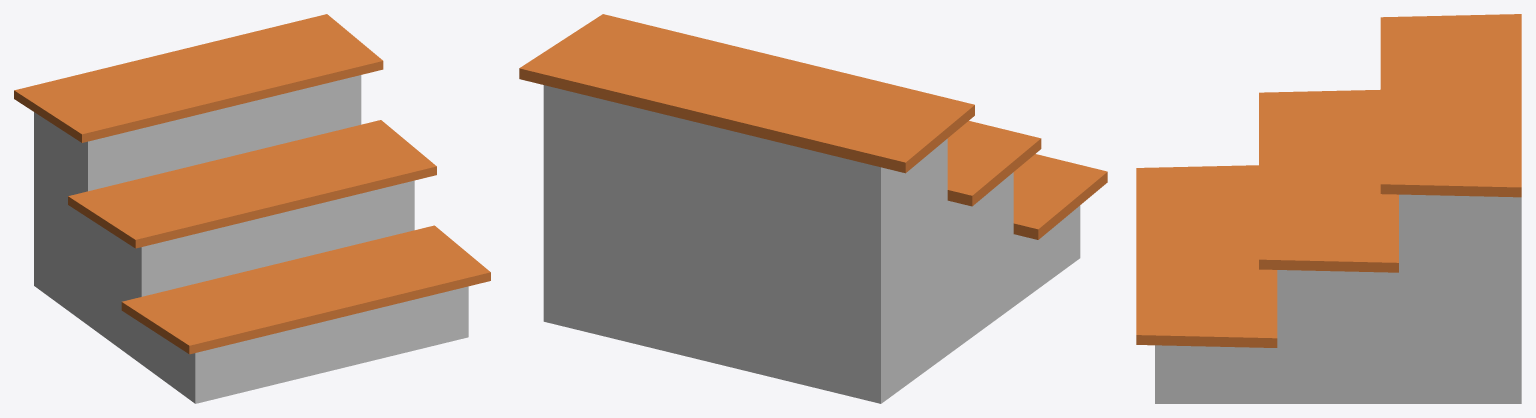
The model's file is Stairs.fbx.
3 renders of one model, left to right at view 1: azimuth 30°, elevation 25°; view 2: azimuth 150°, elevation 25°; view 3: azimuth 270°, elevation 25°, orthographic. The views are drawn at different scales.
Visible parts, largest first — view 1: Cube.004; view 2: Cube.004; view 3: Cube.004.
Part boxes in pixels (<box>): Cube.004: <box>14,14,490,403</box>; Cube.004: <box>519,14,1107,403</box>; Cube.004: <box>1136,14,1521,403</box>.
Bounding box in the file's own units: 670 × 410 × 629.
